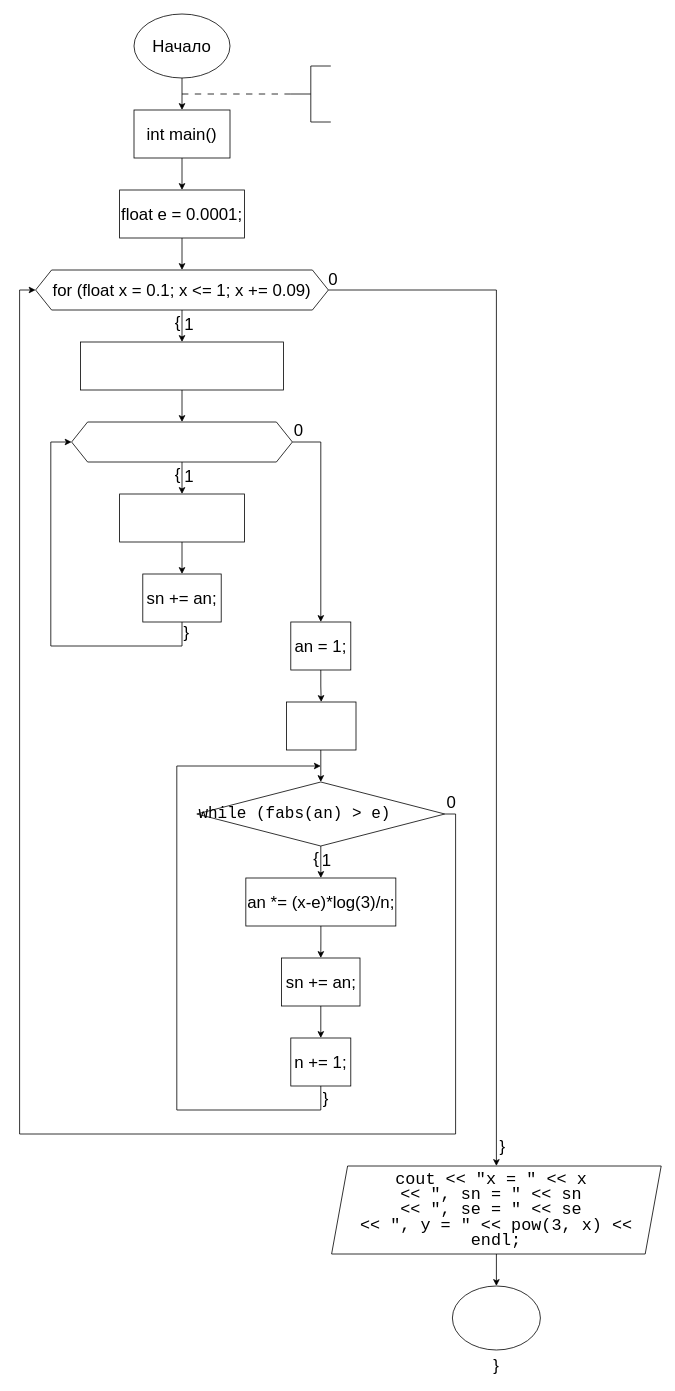
Some shapes in this 675 by 1391 pixel diagram are drawn without their labels. Each missing label, with the centre of its shape:
#include <iostream> #include <cmath> using namespace std;: point 310,93
an *= x*log(3)/i;: point 181,517
float sn = 1, se = 1, an =1;: point 182,365
for (int i = 1; i <= 10; i++): point 181,441
int n = 1;: point 321,725
return 0;: point 496,1317
